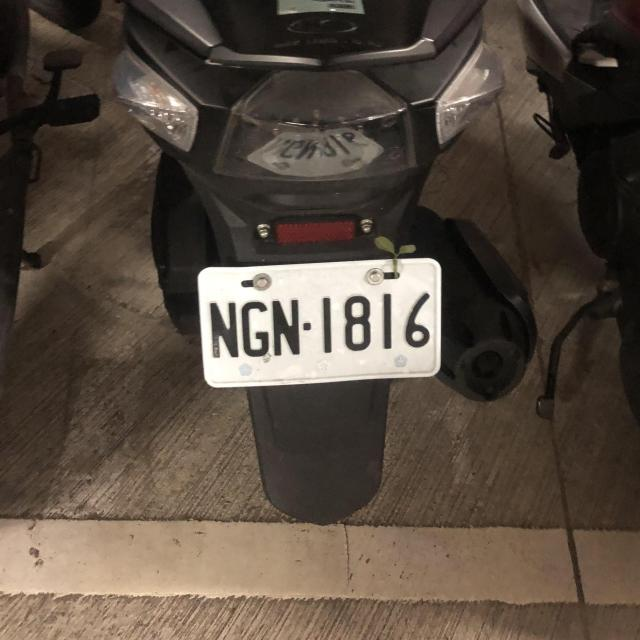W: (195, 254, 444, 389)
